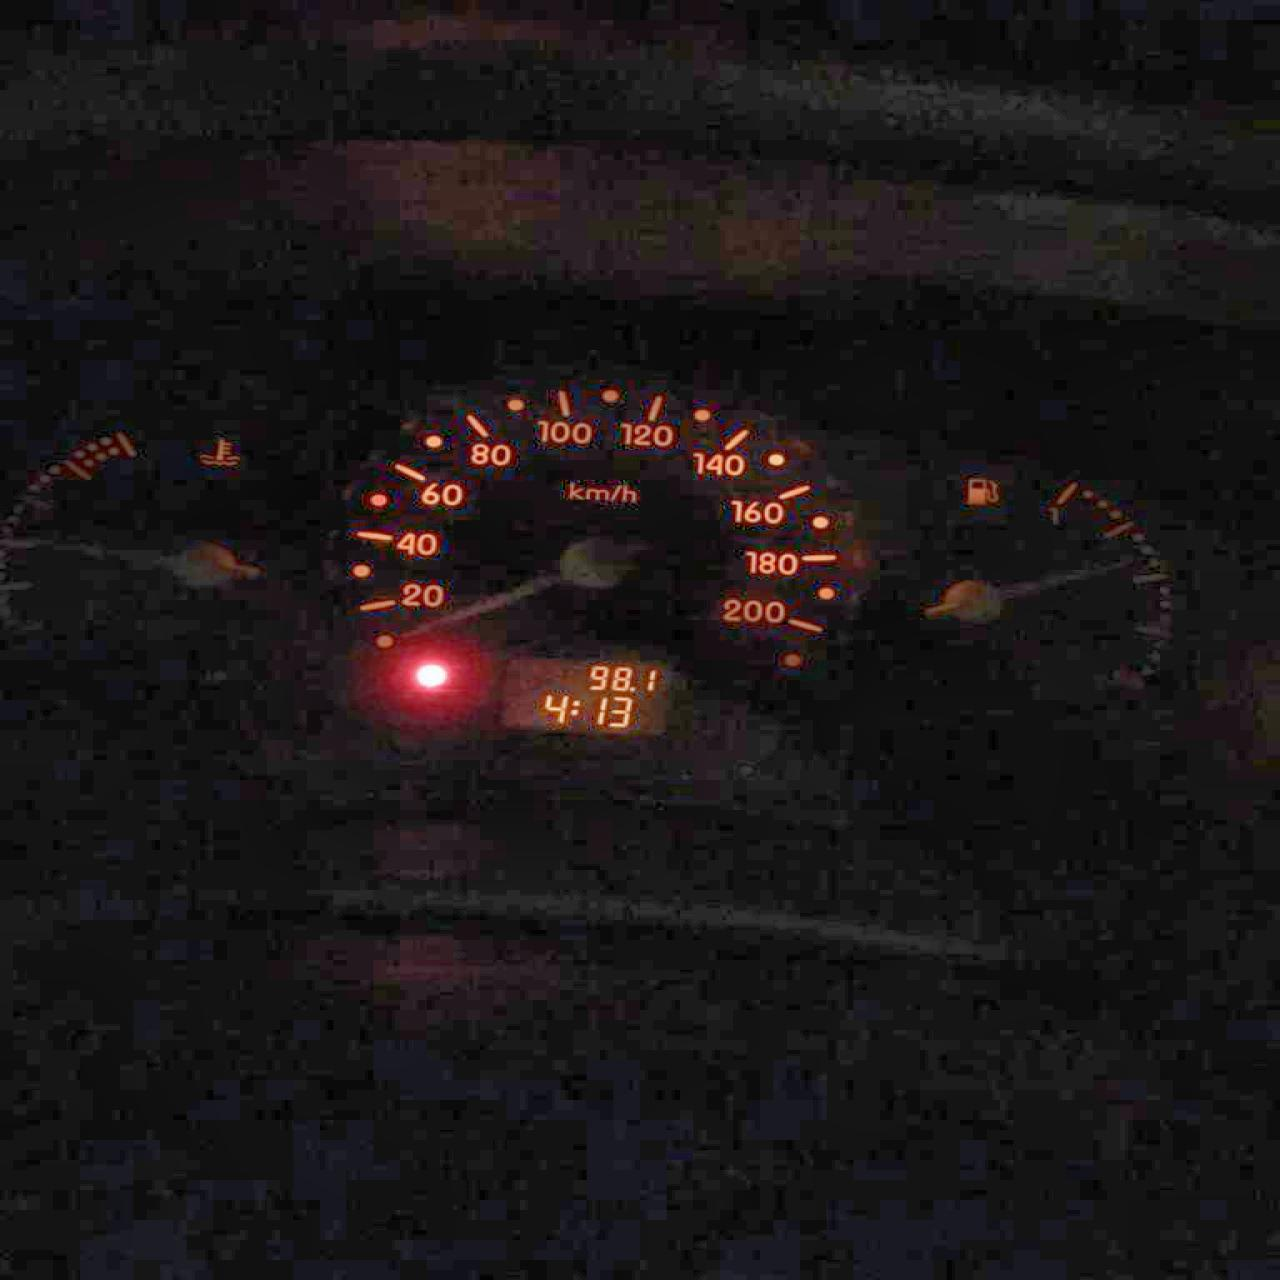-: (627, 685, 635, 692)
1: (595, 696, 607, 726), (645, 669, 655, 692)
3: (606, 695, 632, 726)
4: (542, 694, 568, 724)
8: (610, 667, 629, 692)
9: (587, 665, 608, 690)
X: (568, 699, 580, 715)
odometer: (493, 654, 672, 735)
